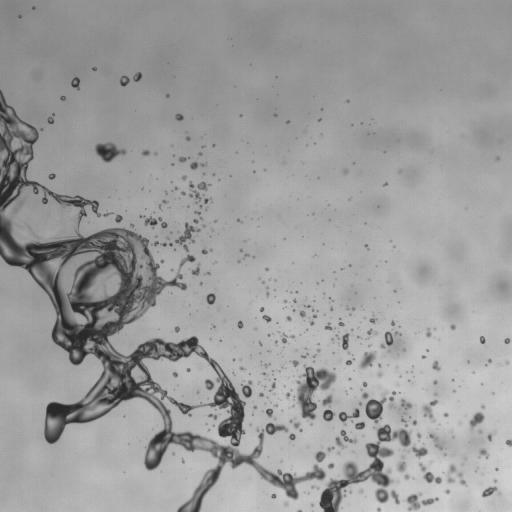droplet: (95, 142, 126, 162), (421, 399, 438, 423), (358, 351, 376, 369), (468, 411, 484, 431), (240, 380, 252, 399), (366, 328, 378, 339), (400, 398, 412, 409), (191, 261, 200, 275), (478, 448, 489, 459), (24, 169, 35, 180), (190, 172, 201, 183), (49, 181, 60, 192), (104, 218, 115, 229), (139, 225, 150, 236), (188, 244, 199, 255), (316, 300, 327, 311), (334, 306, 345, 317), (47, 310, 58, 321), (314, 316, 325, 327), (281, 322, 292, 333), (375, 322, 386, 333), (169, 333, 180, 344), (369, 341, 380, 352), (121, 345, 132, 356), (84, 352, 95, 363), (365, 364, 376, 375), (334, 368, 345, 379), (250, 372, 261, 383), (311, 389, 322, 400), (60, 394, 71, 405), (130, 395, 141, 406), (242, 397, 253, 408), (119, 398, 130, 409), (330, 402, 341, 413), (393, 405, 404, 416), (410, 406, 421, 417), (150, 409, 161, 420), (417, 415, 428, 426), (343, 420, 354, 431), (389, 420, 400, 431), (493, 434, 504, 445), (388, 438, 399, 449), (422, 438, 433, 449), (238, 444, 249, 455), (340, 451, 351, 462), (405, 451, 416, 462), (207, 456, 218, 467), (405, 462, 416, 473), (292, 466, 303, 477), (324, 469, 335, 480), (334, 469, 345, 480), (190, 476, 201, 487), (317, 478, 328, 489), (366, 479, 377, 490), (449, 481, 460, 492), (274, 485, 285, 496), (182, 489, 193, 500), (266, 408, 276, 420), (204, 379, 214, 390), (206, 293, 215, 305), (71, 77, 79, 90), (120, 75, 129, 86), (369, 313, 378, 324), (432, 360, 441, 371), (324, 322, 335, 330), (355, 421, 366, 429), (133, 72, 142, 81), (98, 136, 107, 145), (39, 176, 48, 185), (45, 180, 54, 189), (179, 181, 188, 190), (67, 189, 76, 198), (119, 219, 128, 228), (16, 265, 25, 274), (163, 272, 172, 281), (180, 331, 189, 340), (144, 332, 153, 341), (263, 337, 272, 346), (354, 352, 363, 361), (424, 356, 433, 365), (250, 384, 259, 393), (293, 404, 302, 413), (242, 405, 251, 414), (313, 407, 322, 416), (358, 412, 367, 421), (364, 417, 373, 426), (377, 417, 386, 426), (64, 422, 73, 431), (154, 423, 163, 432), (428, 423, 437, 432), (238, 434, 247, 443), (369, 434, 378, 443), (482, 440, 491, 449), (166, 442, 175, 451), (346, 453, 355, 462), (254, 455, 263, 464), (318, 460, 327, 469), (239, 461, 248, 470), (347, 481, 356, 490), (294, 482, 303, 491), (398, 491, 407, 500), (312, 492, 321, 501), (399, 500, 408, 509), (207, 413, 217, 420), (336, 505, 347, 511), (417, 505, 428, 511), (175, 113, 183, 121), (115, 214, 122, 223), (262, 315, 271, 322), (425, 327, 431, 337), (204, 197, 212, 204), (361, 392, 369, 399), (47, 116, 54, 123), (261, 372, 268, 379), (327, 462, 334, 469), (95, 154, 102, 161), (112, 155, 119, 162), (195, 156, 202, 163), (184, 159, 191, 166), (202, 175, 209, 182), (183, 186, 190, 193), (53, 187, 60, 194), (82, 192, 89, 199), (188, 196, 195, 203), (84, 204, 91, 211), (111, 221, 118, 228), (115, 221, 122, 228), (178, 225, 185, 232), (91, 226, 98, 233), (81, 231, 88, 238), (175, 243, 182, 250), (147, 244, 154, 251), (180, 250, 187, 257), (152, 256, 159, 263), (184, 260, 191, 267), (189, 261, 196, 268), (155, 268, 162, 275), (261, 271, 268, 278), (196, 273, 203, 280), (267, 280, 274, 287), (164, 284, 171, 291), (170, 284, 177, 291), (154, 293, 161, 300), (286, 293, 293, 300), (304, 308, 311, 315), (292, 311, 299, 318), (385, 324, 392, 331), (338, 328, 345, 335), (106, 334, 113, 341), (347, 337, 354, 344), (365, 346, 372, 353), (308, 347, 315, 354), (297, 357, 304, 364), (371, 358, 378, 365), (233, 360, 240, 367), (351, 360, 358, 367), (312, 364, 319, 371), (325, 365, 332, 372), (380, 365, 387, 372), (374, 376, 381, 383), (399, 377, 406, 384), (329, 381, 336, 388), (450, 381, 457, 388), (234, 386, 241, 393), (250, 390, 257, 397), (237, 392, 244, 399), (393, 394, 400, 401), (361, 397, 368, 404), (430, 405, 437, 412), (332, 408, 339, 415), (345, 408, 352, 415), (358, 408, 365, 415), (380, 409, 387, 416), (467, 412, 474, 419), (332, 414, 339, 421), (265, 416, 272, 423), (353, 416, 360, 423), (462, 420, 469, 427), (240, 421, 247, 428), (474, 422, 481, 429), (288, 426, 295, 433), (433, 429, 440, 436), (148, 431, 155, 438), (421, 431, 428, 438), (59, 432, 66, 439), (408, 433, 415, 440), (55, 438, 62, 445), (252, 438, 259, 445), (437, 438, 444, 445), (379, 440, 386, 447), (161, 452, 168, 459), (420, 454, 427, 461), (379, 455, 386, 462), (367, 456, 374, 463), (224, 460, 231, 467), (442, 464, 449, 471), (455, 464, 462, 471), (306, 465, 313, 472), (152, 466, 159, 473), (380, 466, 387, 473), (403, 466, 410, 473), (218, 470, 225, 477), (450, 471, 457, 478), (387, 472, 394, 479), (440, 474, 447, 481), (310, 477, 317, 484), (446, 482, 453, 489), (384, 485, 391, 492), (406, 488, 413, 495), (201, 495, 208, 502), (387, 496, 394, 503), (374, 500, 381, 507), (378, 501, 385, 508), (237, 320, 243, 328), (505, 438, 511, 446), (416, 432, 421, 441), (302, 506, 311, 511), (48, 173, 55, 179), (299, 310, 305, 317), (479, 336, 485, 343), (289, 433, 295, 440), (141, 150, 149, 155), (181, 175, 187, 181), (172, 371, 178, 377), (411, 419, 417, 425), (0, 124, 4, 133), (390, 320, 395, 327), (504, 338, 511, 343), (343, 168, 348, 174), (172, 186, 178, 191), (285, 316, 291, 321), (450, 324, 455, 330), (174, 326, 179, 332), (362, 381, 367, 387), (444, 489, 450, 494), (283, 500, 288, 506), (203, 271, 210, 275), (198, 507, 205, 511), (317, 507, 324, 511), (193, 218, 198, 223), (259, 307, 264, 312), (443, 412, 448, 417), (358, 488, 363, 493), (271, 493, 276, 498), (128, 77, 133, 82), (78, 81, 83, 86), (2, 92, 7, 97), (5, 99, 10, 104), (15, 110, 20, 115), (179, 110, 184, 115), (178, 119, 183, 124), (34, 124, 39, 129), (186, 131, 191, 136), (31, 143, 36, 148), (115, 145, 120, 150), (142, 145, 147, 150), (124, 146, 129, 151), (199, 147, 204, 152), (124, 151, 129, 156), (148, 151, 153, 156), (143, 154, 148, 159), (173, 158, 178, 163), (27, 161, 32, 166), (196, 164, 201, 169), (192, 180, 197, 185), (192, 185, 197, 190), (175, 189, 180, 194), (198, 189, 203, 194), (162, 194, 167, 199), (183, 194, 188, 199), (88, 196, 93, 201), (199, 199, 204, 204), (160, 202, 165, 207), (195, 206, 200, 211), (96, 207, 101, 212), (199, 207, 204, 212), (111, 213, 116, 218), (193, 213, 198, 218), (99, 215, 104, 220), (140, 217, 145, 222), (202, 219, 207, 224), (156, 220, 161, 225), (188, 220, 193, 225), (191, 222, 196, 227), (210, 222, 215, 227), (146, 223, 151, 228), (128, 226, 133, 231), (179, 230, 184, 235), (169, 237, 174, 242), (148, 238, 153, 243), (158, 238, 163, 243), (184, 238, 189, 243), (164, 239, 169, 244), (172, 242, 177, 247), (242, 248, 247, 253), (188, 250, 193, 255), (248, 250, 253, 255), (206, 251, 211, 256), (238, 252, 243, 257), (175, 259, 180, 264), (342, 262, 347, 267), (5, 263, 10, 268), (173, 264, 178, 269), (344, 265, 349, 270), (198, 268, 203, 273), (335, 268, 340, 273), (175, 277, 180, 282), (264, 280, 269, 285), (33, 282, 38, 287), (37, 286, 42, 291), (267, 287, 272, 292), (208, 288, 213, 293), (261, 288, 266, 293), (291, 292, 296, 297), (202, 299, 207, 304), (213, 299, 218, 304), (209, 303, 214, 308), (292, 303, 297, 308), (354, 304, 359, 309), (148, 305, 153, 310), (299, 305, 304, 310), (262, 309, 267, 314), (288, 311, 293, 316), (281, 315, 286, 320), (312, 317, 317, 322), (364, 318, 369, 323), (450, 319, 455, 324), (130, 320, 135, 325), (305, 322, 310, 327), (368, 322, 373, 327), (122, 323, 127, 328), (48, 325, 53, 330), (393, 325, 398, 330), (454, 325, 459, 330), (396, 327, 401, 332), (429, 328, 434, 333), (290, 329, 295, 334), (421, 329, 426, 334), (293, 331, 298, 336), (338, 332, 343, 337), (154, 333, 159, 338), (392, 336, 397, 341), (426, 336, 431, 341), (163, 337, 168, 342), (286, 337, 291, 342), (48, 338, 53, 343), (140, 338, 145, 343), (338, 338, 343, 343), (380, 338, 385, 343), (475, 338, 480, 343), (197, 339, 202, 344), (277, 339, 282, 344), (365, 339, 370, 344), (63, 350, 68, 355), (422, 350, 427, 355), (207, 352, 212, 357), (346, 354, 351, 359), (65, 358, 70, 363), (67, 361, 72, 366), (437, 361, 442, 366), (288, 362, 293, 367), (427, 362, 432, 367), (71, 363, 76, 368), (365, 365, 370, 370), (234, 367, 239, 372), (264, 368, 269, 373), (300, 368, 305, 373), (431, 368, 436, 373), (226, 373, 231, 378), (406, 373, 411, 378), (94, 374, 99, 379), (246, 375, 251, 380), (90, 379, 95, 384), (242, 380, 247, 385), (266, 383, 271, 388), (362, 386, 367, 391), (393, 386, 398, 391), (272, 387, 277, 392), (455, 387, 460, 392), (263, 390, 268, 395), (357, 390, 362, 395), (386, 392, 391, 397), (280, 393, 285, 398), (331, 395, 336, 400), (366, 395, 371, 400), (376, 396, 381, 401), (429, 396, 434, 401), (404, 397, 409, 402), (424, 399, 429, 404), (277, 400, 282, 405), (42, 402, 47, 407), (381, 402, 386, 407), (267, 403, 272, 408), (323, 404, 328, 409), (112, 406, 117, 411), (41, 408, 46, 413), (253, 408, 258, 413), (311, 409, 316, 414), (480, 409, 485, 414), (104, 412, 109, 417), (262, 412, 267, 417), (403, 415, 408, 420), (410, 415, 415, 420), (424, 415, 429, 420), (345, 417, 350, 422), (93, 418, 98, 423), (90, 419, 95, 424), (322, 419, 327, 424), (87, 420, 92, 425), (272, 420, 277, 425), (83, 421, 88, 426), (39, 426, 44, 431), (404, 426, 409, 431), (358, 428, 363, 433), (274, 429, 279, 434), (262, 431, 267, 436), (285, 431, 290, 436), (345, 432, 350, 437), (40, 435, 45, 440), (42, 439, 47, 444), (331, 440, 336, 445), (261, 442, 266, 447), (407, 443, 412, 448), (334, 444, 339, 449), (415, 444, 420, 449), (314, 447, 319, 452), (321, 447, 326, 452), (485, 447, 490, 452), (141, 448, 146, 453), (193, 448, 198, 453), (362, 448, 367, 453), (186, 449, 191, 454), (260, 450, 265, 455), (474, 450, 479, 455), (206, 451, 211, 456), (410, 451, 415, 456), (480, 454, 485, 459), (139, 457, 144, 462), (312, 458, 317, 463), (140, 463, 145, 468), (415, 465, 420, 470), (425, 467, 430, 472), (272, 469, 277, 474), (420, 470, 425, 475), (432, 472, 437, 477), (461, 474, 466, 479), (421, 478, 426, 483), (430, 479, 435, 484), (489, 481, 494, 486), (458, 483, 463, 488), (482, 484, 487, 489), (394, 488, 399, 493), (411, 489, 416, 494), (492, 490, 497, 495), (430, 493, 435, 498), (486, 494, 491, 499), (287, 496, 292, 501), (416, 497, 421, 502), (432, 500, 437, 505), (176, 502, 181, 507), (419, 503, 424, 508), (426, 503, 431, 508), (60, 96, 66, 100), (382, 182, 388, 186), (162, 199, 168, 203), (158, 204, 162, 210), (293, 298, 297, 304), (258, 340, 262, 346), (239, 366, 245, 370), (0, 256, 3, 263), (186, 136, 190, 141), (180, 191, 185, 195), (283, 299, 288, 303), (291, 306, 295, 311), (312, 314, 317, 318), (211, 323, 215, 328), (487, 358, 491, 363), (433, 380, 437, 385), (273, 403, 278, 407), (480, 405, 485, 409), (310, 502, 314, 507), (376, 507, 381, 511), (165, 93, 169, 97), (130, 223, 134, 227), (160, 259, 164, 263), (316, 342, 320, 346), (505, 360, 509, 364), (186, 368, 190, 372), (262, 384, 266, 388), (259, 392, 263, 396), (433, 392, 437, 396), (358, 401, 362, 405), (253, 405, 257, 409), (478, 429, 482, 433), (493, 478, 497, 482), (92, 67, 97, 70), (205, 206, 208, 211), (330, 306, 333, 311), (331, 338, 334, 343), (421, 355, 426, 358), (281, 365, 286, 368), (428, 460, 433, 463), (508, 358, 511, 363), (508, 361, 511, 366), (410, 508, 415, 511), (317, 118, 321, 121), (286, 120, 290, 123), (198, 152, 202, 155), (496, 156, 499, 160), (199, 204, 202, 208), (265, 267, 268, 271), (261, 280, 264, 284), (253, 327, 257, 330), (267, 333, 270, 337), (267, 350, 271, 353), (452, 389, 455, 393), (458, 421, 461, 425), (310, 422, 313, 426), (495, 467, 498, 471), (0, 84, 2, 89), (32, 6, 35, 9), (18, 15, 21, 18), (346, 99, 349, 102), (239, 114, 242, 117), (40, 128, 43, 131), (212, 144, 215, 147), (154, 152, 157, 155), (202, 172, 205, 175), (214, 219, 217, 222), (202, 224, 205, 227), (211, 228, 214, 231), (154, 235, 157, 238), (166, 236, 169, 239), (237, 260, 240, 263), (170, 268, 173, 271), (393, 289, 396, 292), (295, 290, 298, 293), (350, 328, 353, 331), (368, 344, 371, 347), (402, 348, 405, 351), (426, 348, 429, 351), (232, 358, 235, 361), (232, 372, 235, 375), (348, 377, 351, 380), (451, 378, 454, 381), (396, 383, 399, 386), (480, 382, 483, 385), (249, 423, 252, 426), (361, 434, 364, 437), (443, 453, 446, 456), (34, 4, 37, 7), (28, 6, 31, 9), (31, 9, 34, 12), (16, 17, 19, 20), (90, 64, 93, 67), (96, 67, 99, 70), (90, 69, 93, 72), (122, 72, 125, 75), (77, 75, 80, 78), (70, 76, 73, 79), (139, 77, 142, 80), (117, 82, 120, 85), (125, 83, 128, 86), (120, 85, 123, 88), (73, 86, 76, 89), (61, 92, 64, 95), (168, 92, 171, 95), (162, 93, 165, 96), (65, 95, 68, 98), (168, 95, 171, 98), (345, 96, 348, 99), (59, 99, 62, 102), (344, 101, 347, 104), (239, 110, 242, 113), (274, 110, 277, 113), (54, 112, 57, 115), (48, 113, 51, 116), (236, 113, 239, 116), (51, 115, 54, 118), (316, 115, 319, 118), (239, 116, 242, 119), (20, 117, 23, 120), (284, 117, 287, 120), (44, 119, 47, 122), (53, 119, 56, 122), (319, 119, 322, 122), (287, 122, 290, 125), (31, 123, 34, 126), (49, 123, 52, 126), (36, 128, 39, 131), (189, 135, 192, 138), (184, 139, 187, 142), (211, 140, 214, 143), (200, 142, 203, 145), (209, 143, 212, 146), (214, 144, 217, 147), (32, 153, 35, 156), (184, 154, 187, 157), (170, 165, 173, 168), (249, 169, 252, 172), (52, 170, 55, 173), (209, 171, 212, 174), (254, 171, 257, 174), (178, 174, 181, 177), (51, 178, 54, 181), (37, 180, 40, 183), (381, 180, 384, 183), (387, 181, 390, 184), (139, 184, 142, 187), (385, 184, 388, 187), (171, 186, 174, 189), (50, 188, 53, 191), (167, 190, 170, 193), (180, 194, 183, 197), (204, 195, 207, 198), (95, 198, 98, 201), (207, 199, 210, 202), (155, 204, 158, 207), (183, 204, 186, 207), (107, 209, 110, 212), (119, 212, 122, 215), (140, 212, 143, 215), (308, 212, 311, 215), (199, 213, 202, 216), (136, 214, 139, 217), (81, 215, 84, 218), (213, 216, 216, 219), (239, 217, 242, 220), (197, 218, 200, 221), (233, 218, 236, 221), (131, 220, 134, 223), (210, 220, 213, 223), (215, 221, 218, 224), (236, 221, 239, 224), (162, 227, 165, 230), (208, 231, 211, 234), (175, 236, 178, 239), (155, 237, 158, 240), (282, 239, 285, 242), (364, 240, 367, 243), (390, 242, 393, 245), (156, 243, 159, 246), (166, 243, 169, 246), (367, 244, 370, 247), (200, 246, 203, 249), (363, 247, 366, 250), (392, 247, 395, 250), (236, 248, 239, 251), (201, 253, 204, 256), (245, 255, 248, 258), (314, 255, 317, 258), (211, 259, 214, 262), (240, 259, 243, 262), (348, 260, 351, 263), (158, 262, 161, 265), (265, 264, 268, 267), (340, 264, 343, 267), (348, 266, 351, 269), (332, 267, 335, 270), (262, 268, 265, 271), (341, 269, 344, 272), (179, 270, 182, 273), (209, 270, 212, 273), (265, 270, 268, 273), (205, 273, 208, 276), (193, 274, 196, 277), (270, 278, 273, 281), (258, 279, 261, 282), (318, 280, 321, 283), (201, 282, 204, 285), (185, 283, 188, 286), (315, 284, 318, 287), (392, 286, 395, 289), (295, 287, 298, 290), (287, 288, 290, 291), (396, 288, 399, 291), (292, 289, 295, 292), (206, 291, 209, 294), (393, 292, 396, 295), (263, 293, 266, 296), (320, 293, 323, 296), (312, 296, 315, 299), (330, 296, 333, 299), (295, 297, 298, 300), (327, 298, 330, 301), (290, 300, 293, 303), (330, 301, 333, 304), (284, 302, 287, 305), (304, 302, 307, 305), (260, 303, 263, 306), (348, 305, 351, 308), (257, 306, 260, 309), (308, 306, 311, 309), (327, 306, 330, 309), (332, 306, 335, 309), (354, 308, 357, 311), (348, 309, 351, 312), (329, 310, 332, 313), (312, 311, 315, 314), (268, 314, 271, 317), (369, 315, 372, 318), (302, 316, 305, 319), (263, 319, 266, 322), (337, 319, 340, 322), (340, 319, 343, 322), (388, 319, 391, 322), (393, 319, 396, 322), (241, 320, 244, 323), (286, 320, 289, 323), (212, 321, 215, 324), (267, 321, 270, 324), (234, 322, 237, 325), (174, 323, 177, 326), (275, 323, 278, 326), (329, 323, 332, 326), (209, 324, 212, 327), (311, 324, 314, 327), (235, 325, 238, 328), (321, 325, 324, 328), (338, 325, 341, 328), (171, 327, 174, 330), (211, 327, 214, 330), (240, 327, 243, 330), (276, 327, 279, 330), (302, 327, 305, 330), (366, 327, 369, 330), (448, 327, 451, 330), (326, 328, 329, 331), (268, 330, 271, 333), (304, 330, 307, 333), (279, 331, 282, 334), (284, 331, 287, 334), (300, 331, 303, 334), (264, 332, 267, 335), (356, 332, 359, 335), (391, 332, 394, 335), (401, 332, 404, 335), (269, 333, 272, 336), (365, 333, 368, 336), (503, 335, 506, 338), (220, 336, 223, 339), (216, 337, 219, 340), (357, 337, 360, 340), (271, 339, 274, 342), (316, 339, 319, 342), (328, 339, 331, 342), (484, 339, 487, 342), (501, 339, 504, 342), (260, 340, 263, 343), (218, 341, 221, 344), (319, 341, 322, 344), (282, 342, 285, 345), (383, 342, 386, 345), (256, 343, 259, 346), (480, 343, 483, 346), (505, 343, 508, 346), (315, 344, 318, 347), (427, 346, 430, 349), (268, 347, 271, 350), (343, 349, 346, 352), (319, 350, 322, 353), (265, 351, 268, 354), (402, 351, 405, 354), (418, 355, 421, 358), (466, 356, 469, 359), (422, 357, 425, 360), (490, 357, 493, 360), (229, 358, 232, 361), (234, 358, 237, 361), (469, 359, 472, 362), (265, 360, 268, 363), (485, 360, 488, 363), (257, 361, 260, 364), (261, 361, 264, 364), (464, 361, 467, 364), (501, 361, 504, 364), (380, 363, 383, 366), (481, 363, 484, 366), (219, 364, 222, 367), (242, 364, 245, 367), (346, 364, 349, 367), (277, 366, 280, 369), (411, 367, 414, 370), (222, 368, 225, 371), (280, 368, 283, 371), (240, 369, 243, 372), (407, 369, 410, 372), (396, 372, 399, 375), (411, 372, 414, 375), (262, 374, 265, 377), (273, 374, 276, 377), (348, 374, 351, 377), (450, 375, 453, 378), (345, 376, 348, 379), (270, 378, 273, 381), (363, 378, 366, 381), (404, 378, 407, 381), (410, 378, 413, 381), (348, 379, 351, 382), (430, 379, 433, 382), (450, 380, 453, 383), (274, 383, 277, 386), (366, 383, 369, 386), (435, 383, 438, 386), (347, 388, 350, 391), (390, 388, 393, 391), (449, 388, 452, 391), (491, 388, 494, 391), (287, 389, 290, 392), (395, 390, 398, 393), (342, 391, 345, 394), (288, 395, 291, 398), (259, 396, 262, 399), (482, 402, 485, 405), (263, 408, 266, 411), (341, 408, 344, 411), (444, 409, 447, 412), (271, 412, 274, 415), (444, 416, 447, 419), (416, 420, 419, 423), (435, 420, 438, 423), (262, 425, 265, 428), (298, 425, 301, 428), (419, 431, 422, 434), (426, 433, 429, 436), (490, 436, 493, 439), (287, 437, 290, 440), (485, 437, 488, 440), (290, 439, 293, 442), (505, 444, 508, 447), (441, 449, 444, 452), (446, 453, 449, 456), (487, 456, 490, 459), (178, 458, 181, 461), (181, 463, 184, 466), (495, 464, 498, 467), (492, 465, 495, 468), (473, 466, 476, 469), (498, 467, 501, 470), (476, 469, 479, 472), (492, 469, 495, 472), (281, 470, 284, 473), (495, 470, 498, 473), (408, 477, 411, 480), (465, 480, 468, 483), (448, 491, 451, 494), (479, 491, 482, 494), (268, 493, 271, 496), (436, 494, 439, 497), (271, 497, 274, 500), (307, 503, 310, 506), (297, 506, 300, 509), (273, 114, 277, 116), (201, 145, 205, 147), (165, 190, 167, 194), (240, 248, 242, 252), (340, 268, 344, 270), (304, 347, 308, 349), (360, 122, 363, 124), (171, 163, 174, 165), (253, 170, 255, 173), (212, 173, 215, 175), (141, 187, 143, 190), (312, 212, 314, 215), (283, 237, 286, 239), (243, 240, 246, 242), (348, 264, 351, 266), (268, 278, 271, 280), (200, 282, 202, 285), (273, 289, 276, 291), (323, 292, 325, 295), (338, 317, 341, 319), (398, 325, 401, 327), (433, 328, 436, 330), (277, 331, 280, 333), (219, 339, 222, 341), (387, 350, 390, 352), (312, 360, 315, 362), (467, 360, 469, 363), (248, 373, 251, 375), (399, 375, 401, 378), (258, 381, 260, 384), (360, 388, 362, 391), (208, 428, 210, 431), (452, 435, 454, 438), (172, 452, 174, 455), (464, 457, 467, 459), (509, 339, 511, 342), (374, 509, 377, 511), (379, 509, 382, 511), (321, 108, 323, 110), (52, 113, 54, 115), (351, 124, 353, 126), (353, 162, 355, 164), (264, 169, 266, 171), (218, 179, 220, 181), (170, 181, 172, 183), (202, 194, 204, 196), (187, 205, 189, 207), (153, 211, 155, 213), (170, 231, 172, 233), (177, 231, 179, 233), (389, 240, 391, 242), (393, 245, 395, 247), (173, 248, 175, 250), (385, 260, 387, 262), (274, 279, 276, 281), (321, 279, 323, 281), (368, 279, 370, 281), (316, 282, 318, 284), (290, 291, 292, 293), (397, 301, 399, 303), (349, 313, 351, 315), (357, 326, 359, 328), (306, 328, 308, 330), (209, 338, 211, 340), (337, 343, 339, 345), (295, 349, 297, 351), (332, 352, 334, 354), (239, 358, 241, 360), (485, 364, 487, 366), (472, 371, 474, 373), (408, 379, 410, 381), (283, 385, 285, 387), (350, 387, 352, 389), (273, 393, 275, 395), (492, 392, 494, 394), (266, 396, 268, 398), (206, 398, 208, 400), (317, 399, 319, 401), (123, 415, 125, 417), (438, 423, 440, 425), (212, 424, 214, 426), (280, 460, 282, 462), (481, 473, 483, 475), (314, 142, 315, 144), (173, 154, 174, 156), (229, 175, 231, 176), (317, 177, 319, 178), (168, 207, 170, 208), (377, 206, 379, 207), (209, 236, 211, 237), (333, 271, 335, 272), (333, 284, 334, 286), (313, 300, 315, 301), (299, 334, 301, 335), (412, 365, 413, 367), (262, 410, 263, 412), (409, 416, 410, 418), (205, 423, 207, 424), (478, 510, 480, 511)
ligament: (402, 492, 438, 511), (418, 462, 441, 484), (396, 455, 414, 480), (139, 214, 167, 229), (322, 394, 336, 421), (380, 331, 401, 348), (428, 431, 442, 450), (481, 486, 501, 497), (289, 416, 302, 431), (302, 304, 318, 312), (190, 162, 206, 169), (268, 377, 276, 391), (151, 241, 172, 246), (487, 430, 496, 441), (376, 363, 383, 377), (194, 211, 203, 220), (311, 348, 320, 357), (285, 389, 292, 400), (178, 156, 190, 162), (243, 253, 255, 259), (345, 358, 355, 365), (201, 248, 212, 254), (300, 352, 309, 358), (308, 317, 314, 325), (346, 305, 355, 310), (310, 485, 319, 490), (265, 286, 269, 297), (337, 322, 345, 327), (364, 244, 369, 250), (237, 218, 242, 223), (328, 297, 334, 301), (356, 335, 362, 339), (274, 340, 277, 346), (475, 466, 478, 472), (303, 491, 309, 494), (212, 261, 217, 264), (282, 306, 287, 309), (196, 389, 199, 394), (345, 390, 348, 395), (182, 458, 184, 463), (277, 370, 280, 373), (348, 197, 350, 201), (277, 398, 281, 400), (313, 254, 316, 256), (199, 367, 202, 369), (272, 370, 273, 375)
